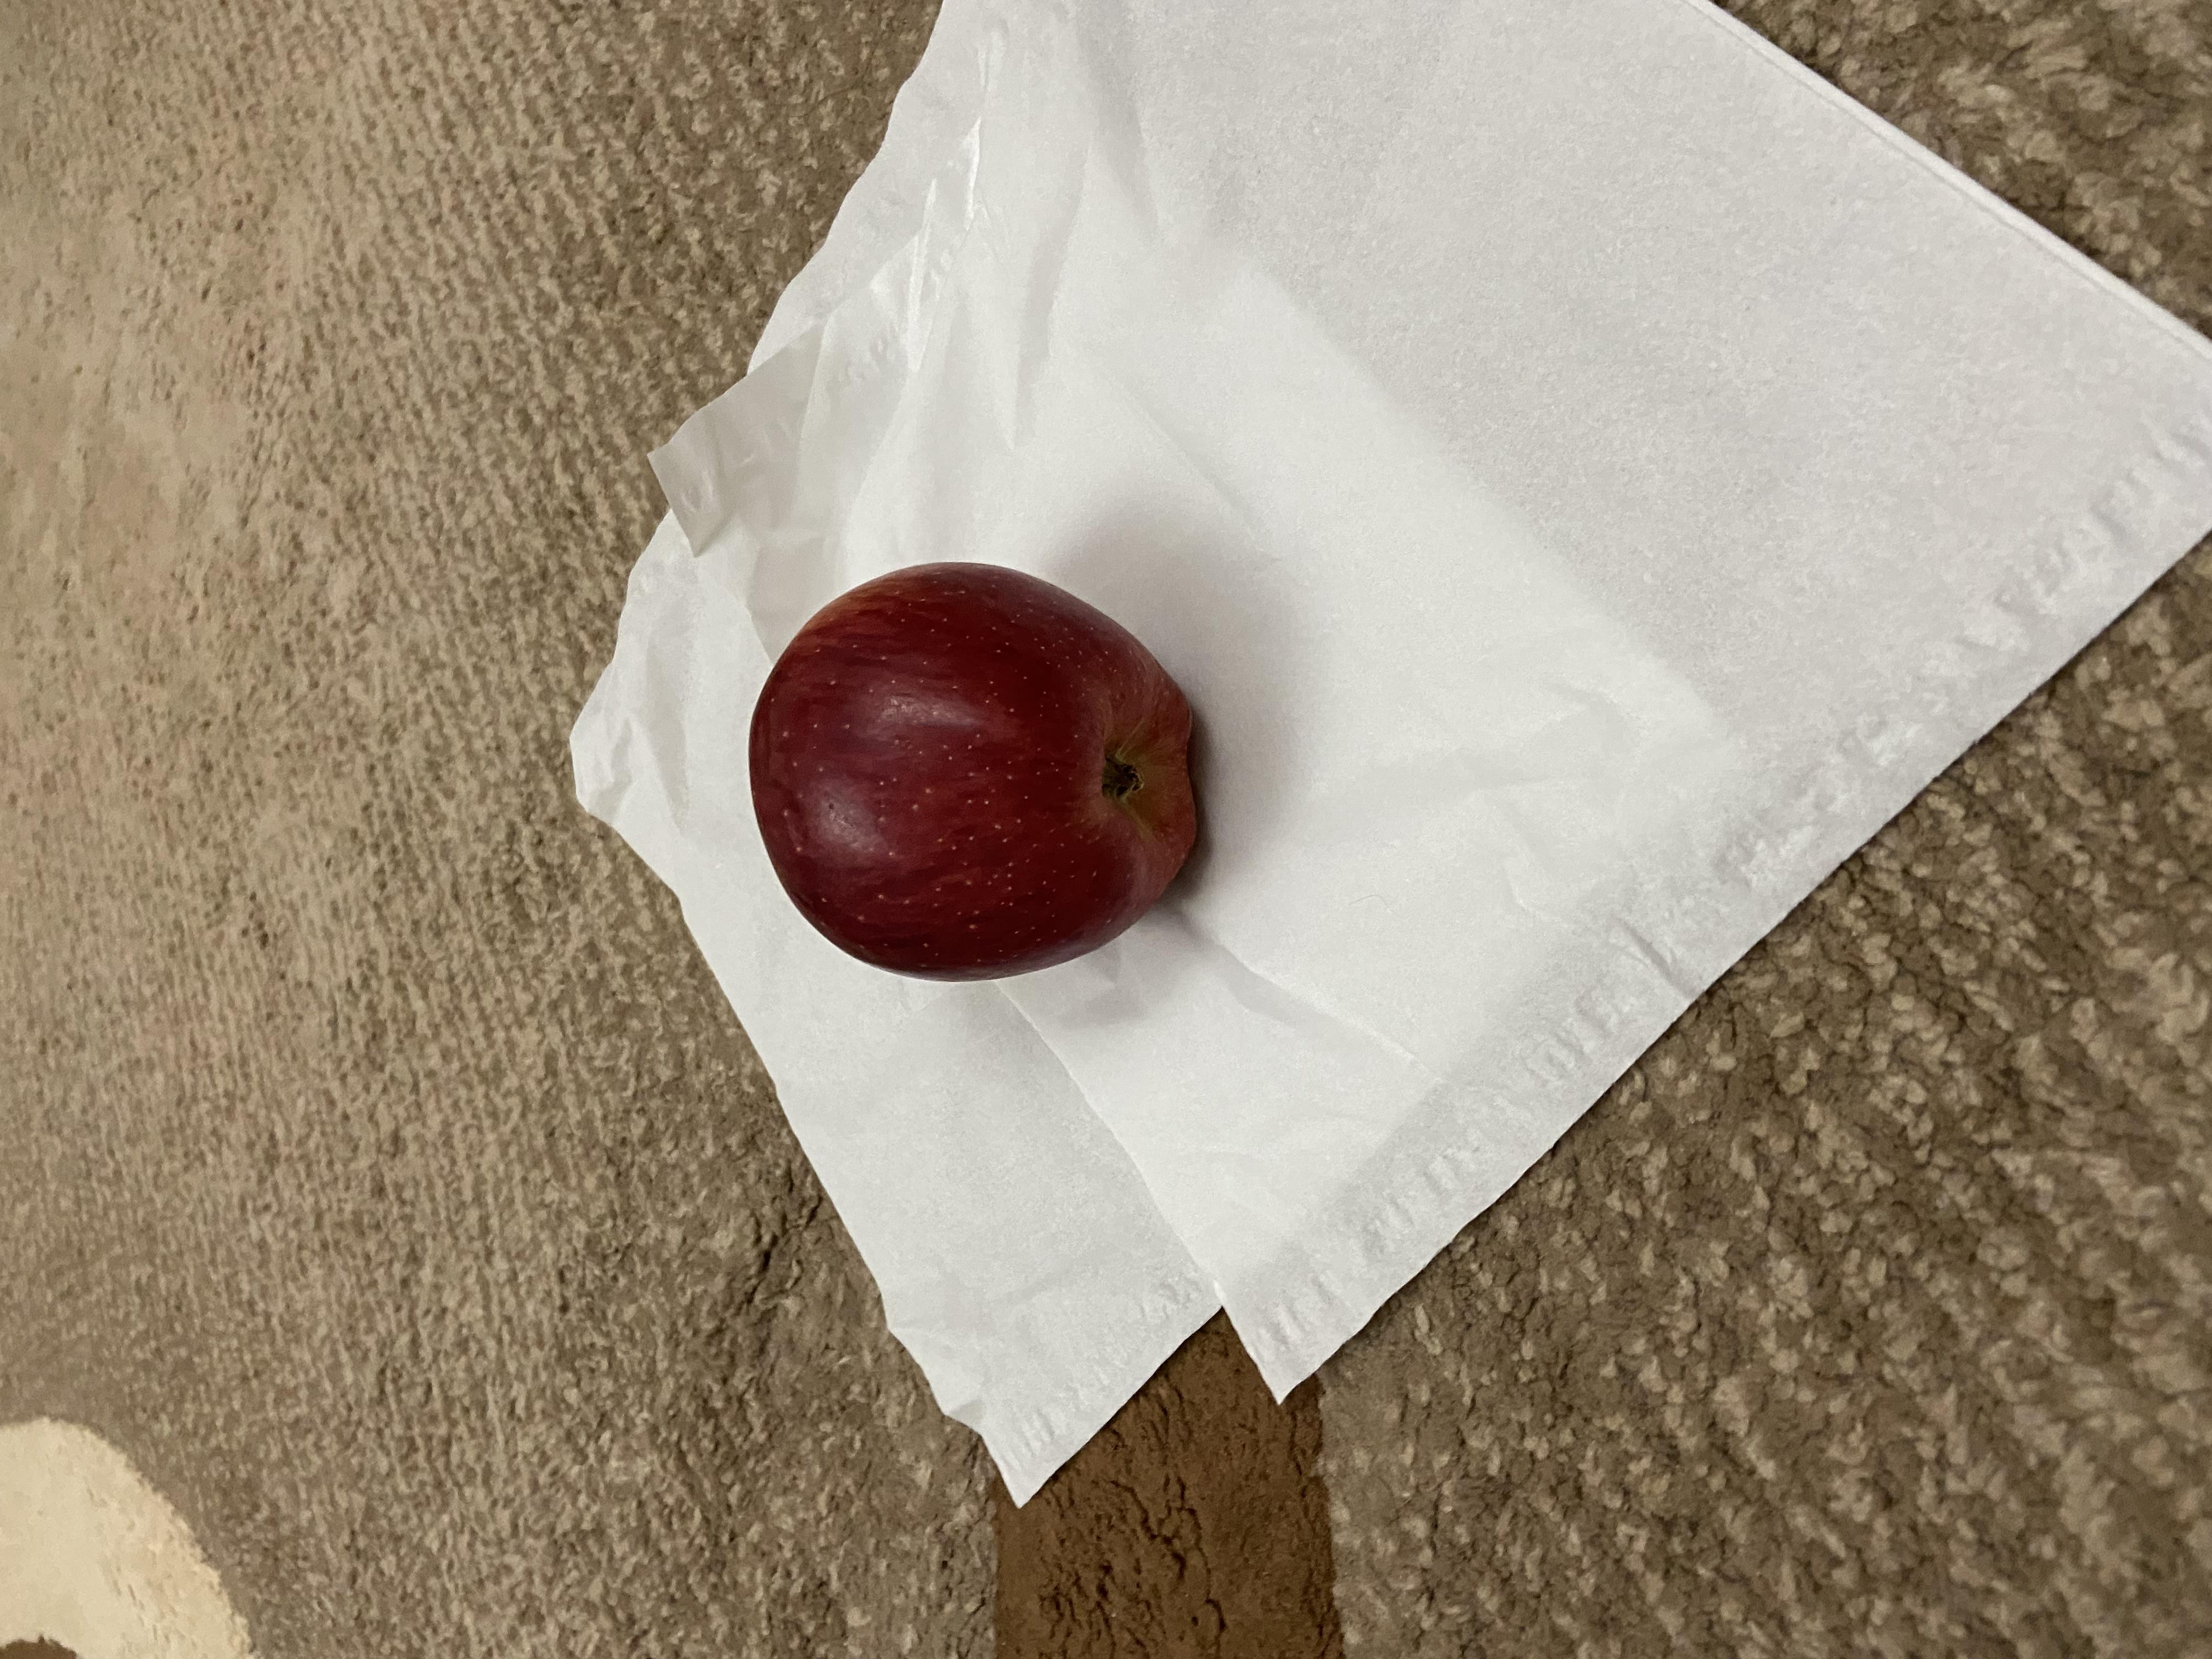Apple: (895, 551, 1486, 922)
